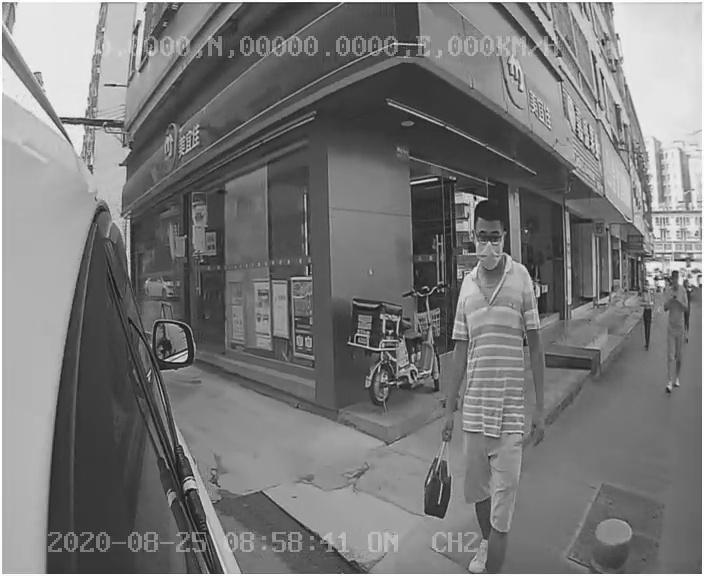person: (432, 205, 552, 529)
